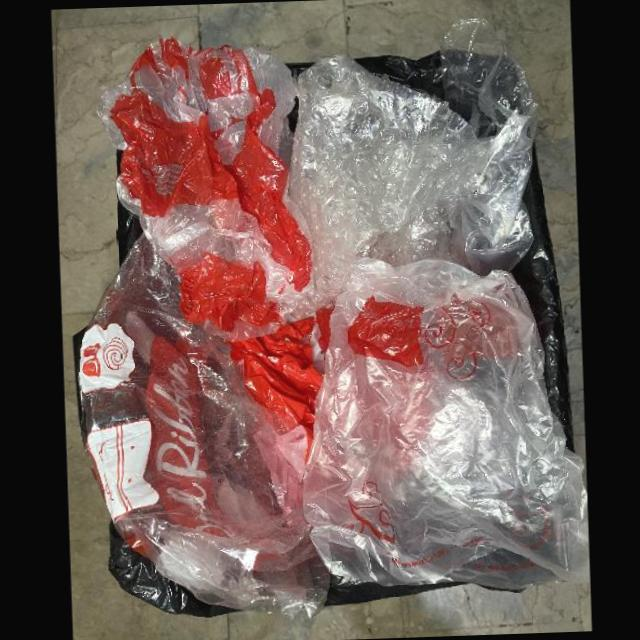tui_ni_long: (79, 234, 329, 617), (303, 259, 590, 589), (100, 38, 313, 340)
